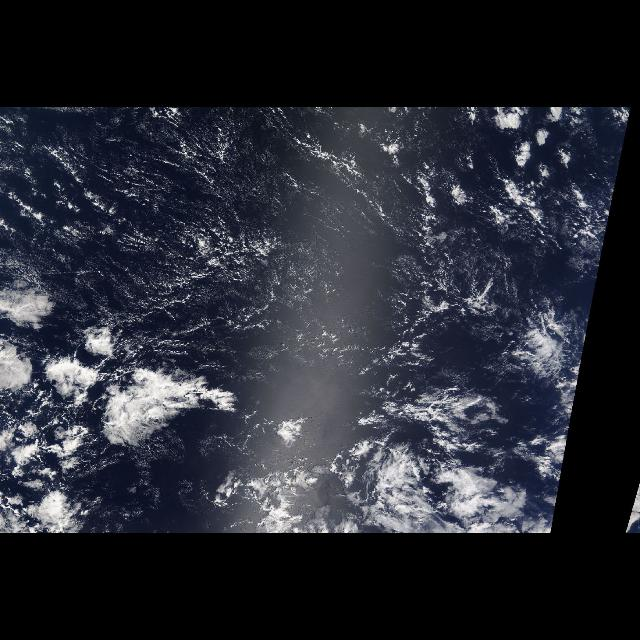Flower: (2, 282, 236, 468)
Gravel: (5, 138, 146, 264)
Sugar: (16, 110, 484, 348)
